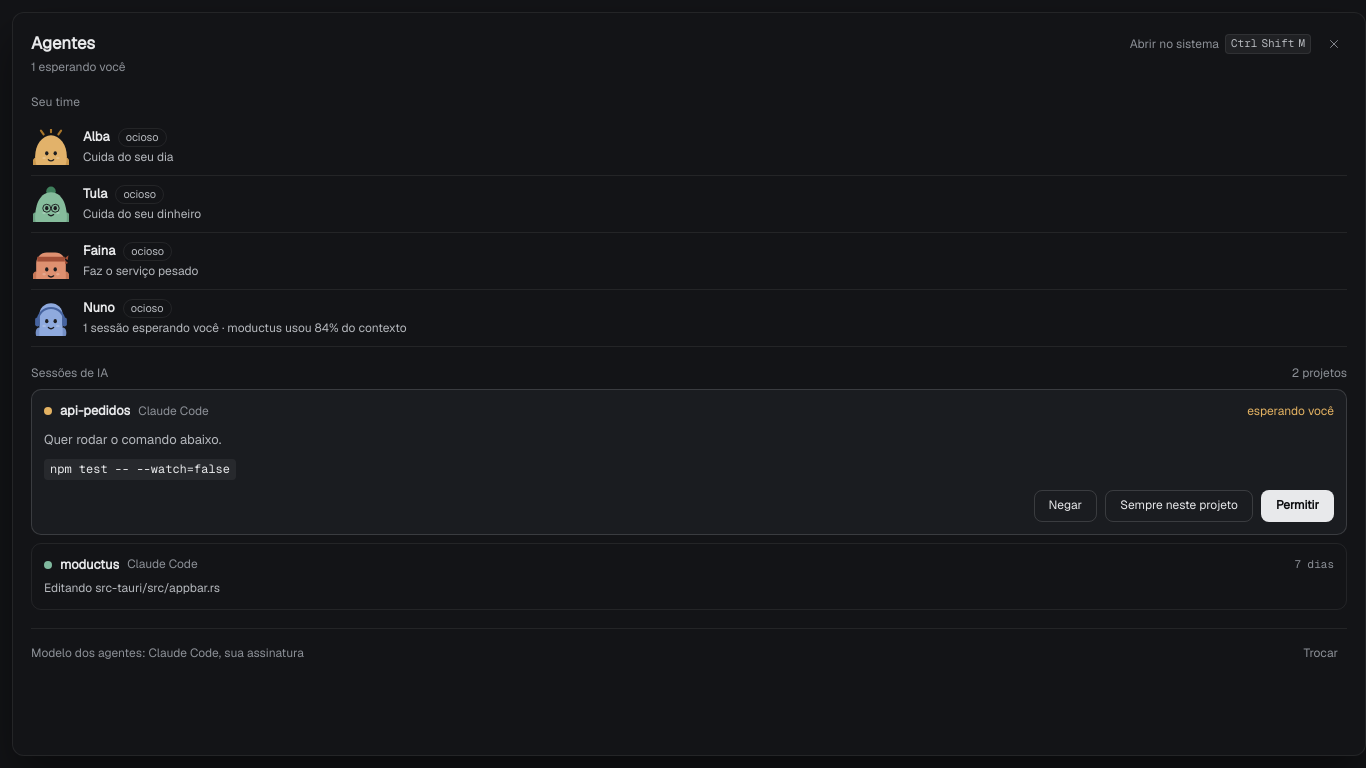
Scenario: painel Agentes: pedidos das sessões do terminal › o cartão diz o que valeu quando o aviso chega, e o alto deixa de contar o pedido
The width and height of the screenshot is (1366, 768).
Expected: the text "1 esperando você" is shown, [31, 59, 125, 75]
Click the button "Sempre neste projeto": [1179, 506] box [1105, 490, 1253, 522]
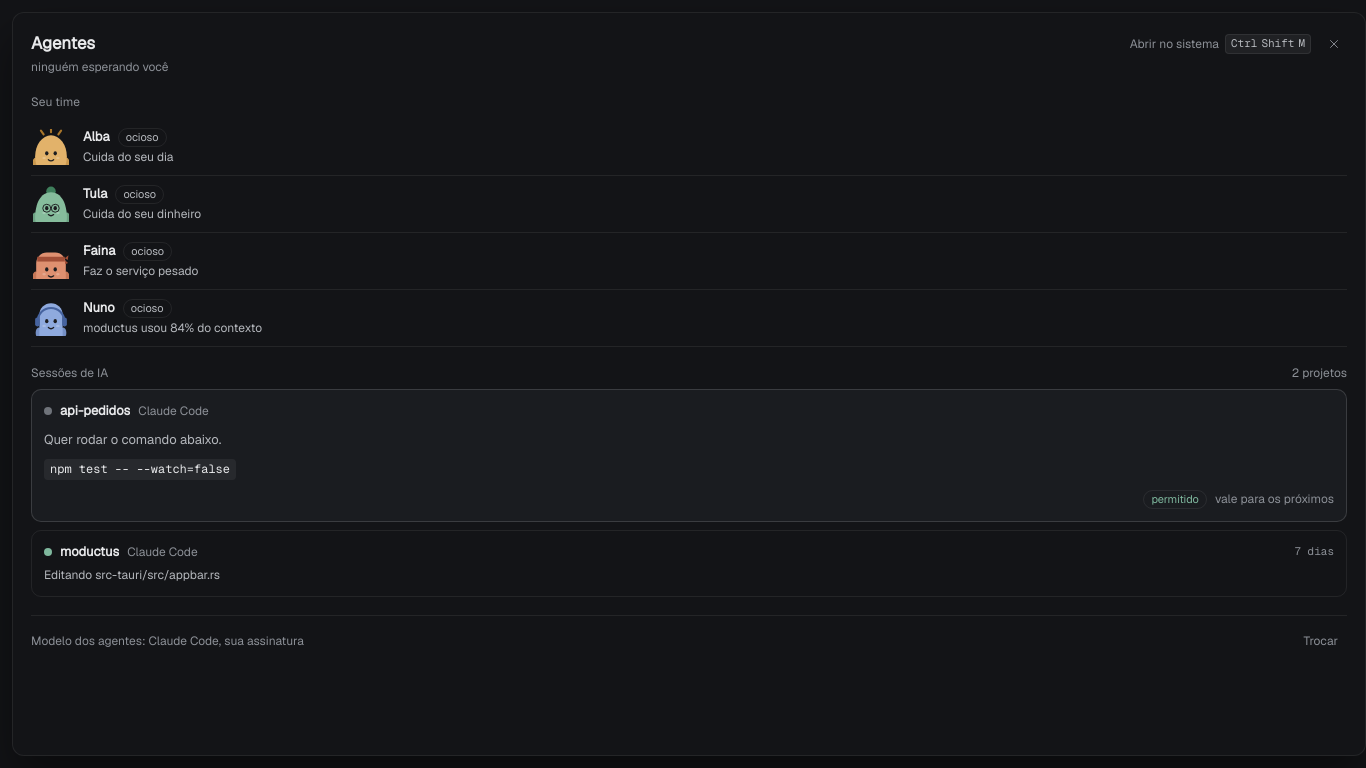
Expected: the message "permitido vale para os próximos" is shown, [1143, 490, 1334, 509]
Expected: the element with class "aprovacao-origem" no longer shows "esperando você"
Expected: the text "ninguém esperando você" is shown, [31, 59, 168, 75]
